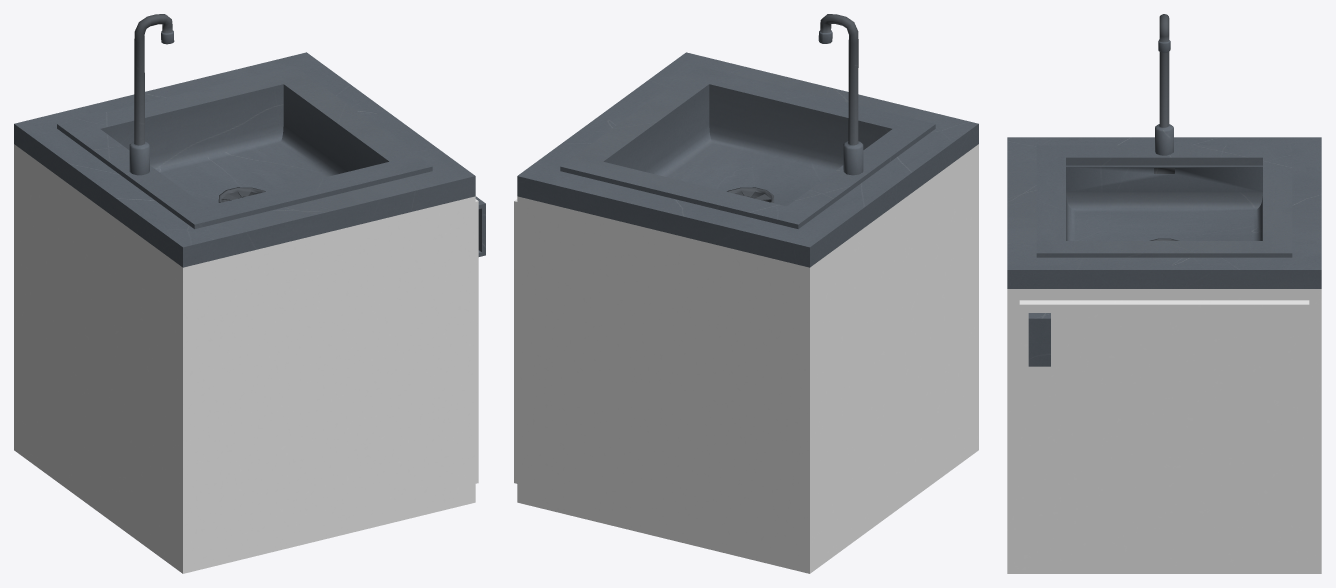
The model's file is mdl_Kitchen_basic04.fbx.
The picture shows the model from 3 angles, left to right: view 1: azimuth 30°, elevation 25°; view 2: azimuth 150°, elevation 25°; view 3: azimuth 270°, elevation 25°; orthographic projection. The views are drawn at different scales.
Visible parts, largest first — view 1: Cube.009; view 2: Cube.009; view 3: Cube.009.
Part boxes in pixels (<box>): Cube.009: <box>14,14,485,573</box>; Cube.009: <box>514,14,978,573</box>; Cube.009: <box>1007,14,1321,573</box>.
Bounding box in the file's own units: 641 × 941 × 597.
